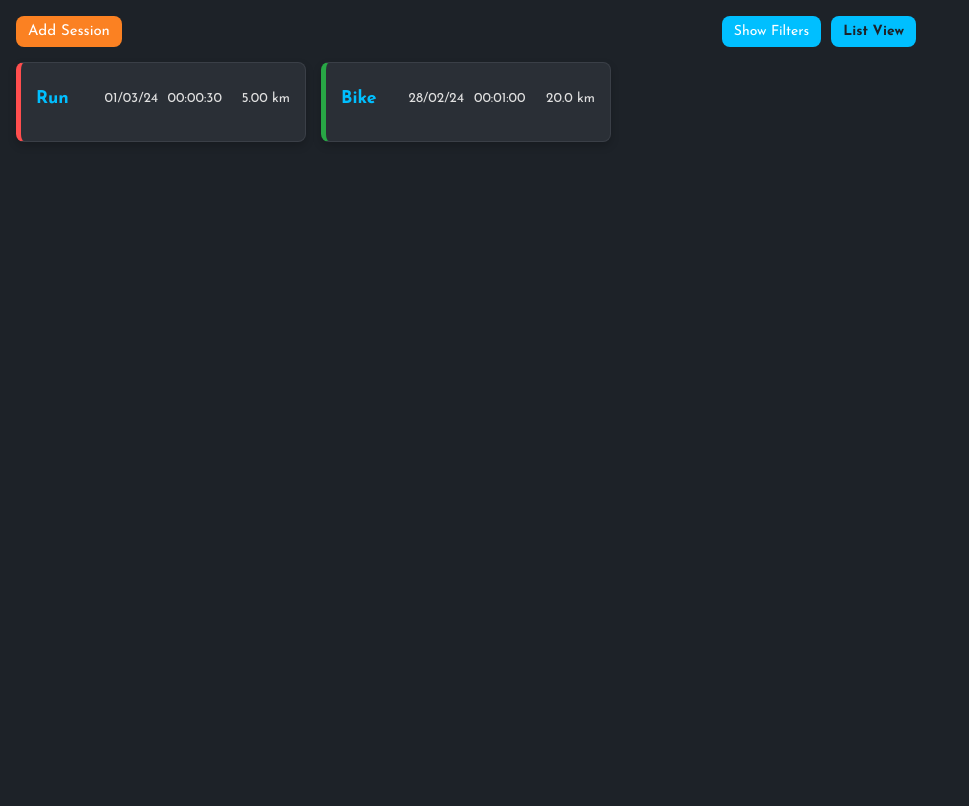
SessionList Component › opens the edit session form when pencil icon is clicked (after expanding)
Click the heading "Run" at (52, 98), box [36, 90, 69, 107]
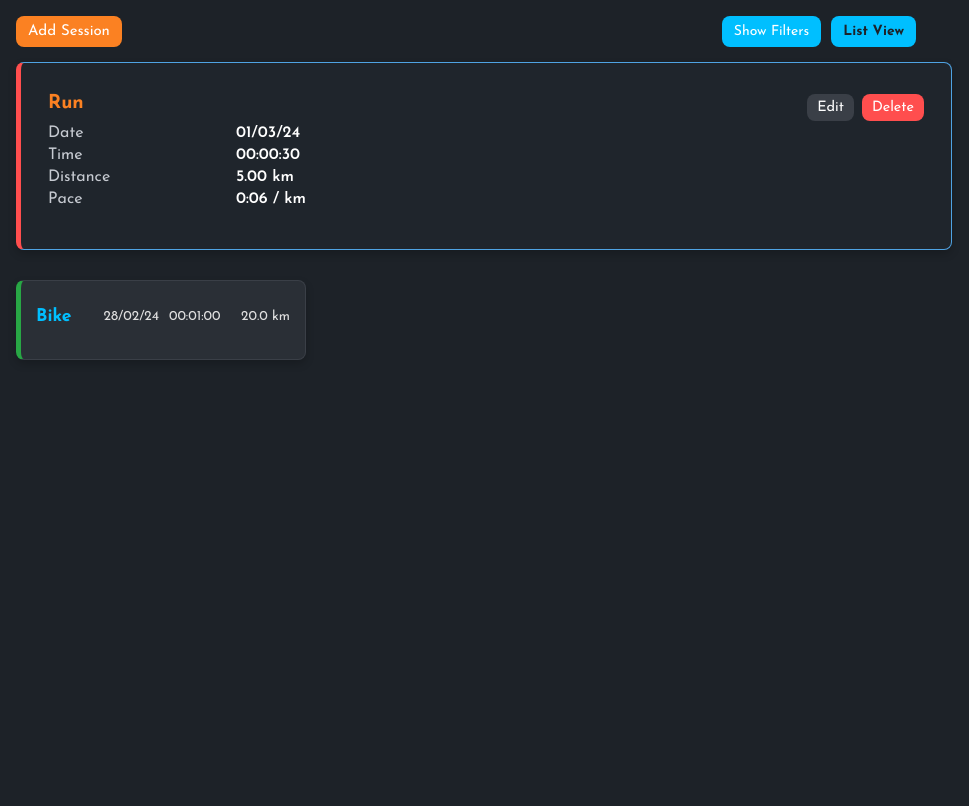
Expected: the element with class "expanded-card" is shown, [16, 62, 952, 250]
Click the button titled "Edit Session" at (830, 108), box [807, 94, 854, 121]
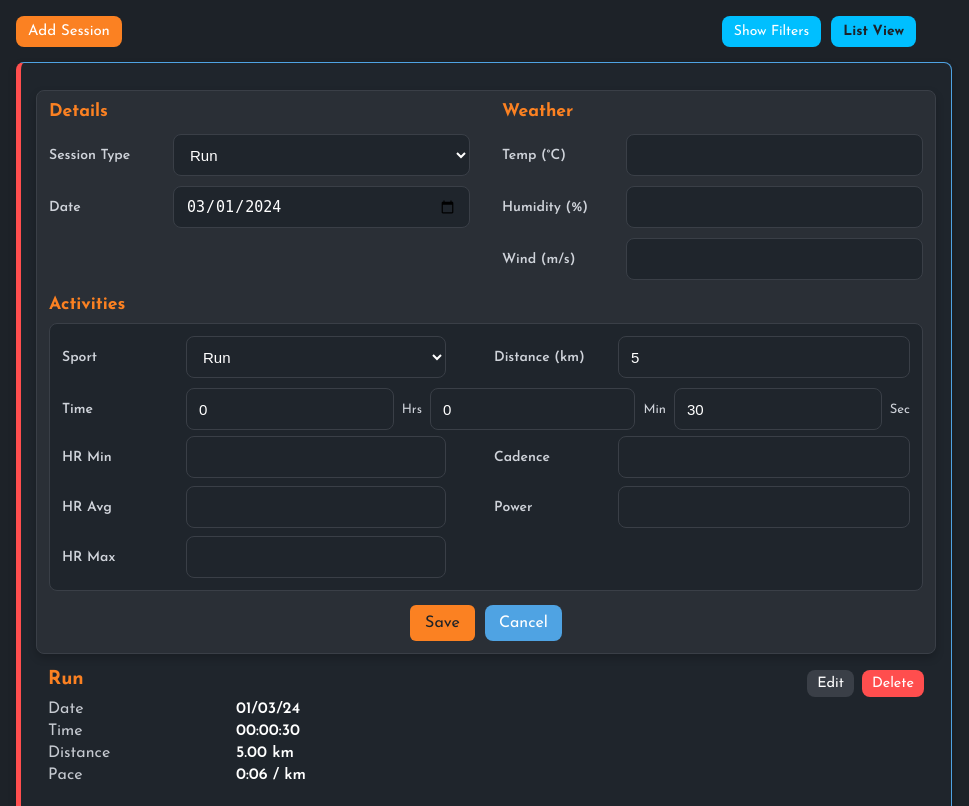
Expected: the dropdown next to "Session Type" is shown, [173, 134, 470, 176]
